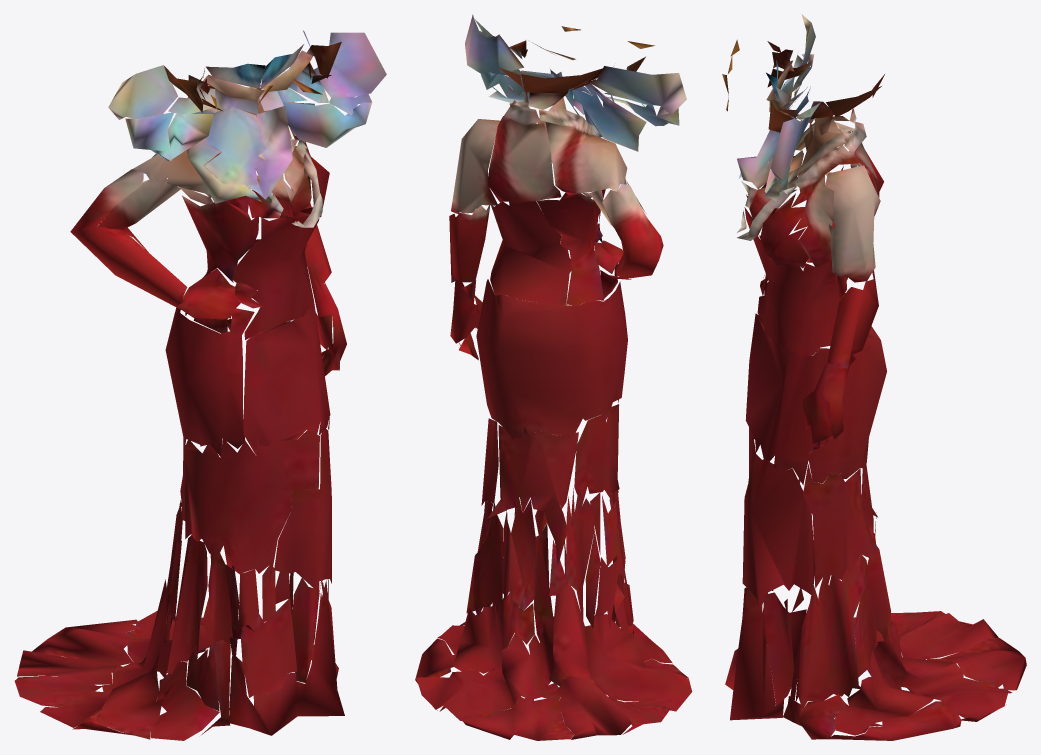
Rendered from crowd_actress_body.glb.
3 renders of one model, left to right at view 1: azimuth 30°, elevation 25°; view 2: azimuth 150°, elevation 25°; view 3: azimuth 270°, elevation 25°, orthographic. The views are drawn at different scales.
Visible parts, largest first — view 1: tripo_node_058a3aab-caec-415b-b0f7-e44096bb8c06; view 2: tripo_node_058a3aab-caec-415b-b0f7-e44096bb8c06; view 3: tripo_node_058a3aab-caec-415b-b0f7-e44096bb8c06.
Boxes of the visible parts, x1,y1,x2,y2 form: tripo_node_058a3aab-caec-415b-b0f7-e44096bb8c06: (14,30,386,740); tripo_node_058a3aab-caec-415b-b0f7-e44096bb8c06: (415,14,692,740); tripo_node_058a3aab-caec-415b-b0f7-e44096bb8c06: (722,14,1026,740).
Size of the model in its own units: 0.3714 by 0.8041 by 0.355.
Materials: 1 (1 with a texture image).
